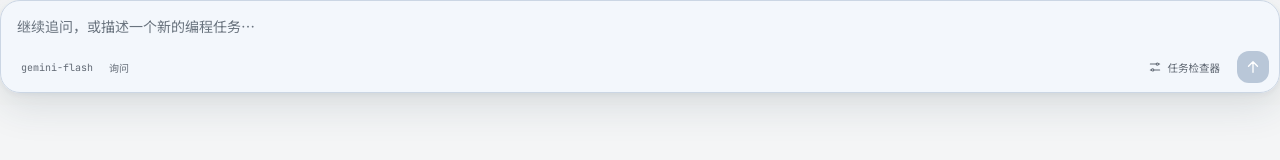
Scenario: keeps keyboard-selected completions visible and applies them with Tab
The width and height of the screenshot is (1280, 160).
Step 1. Type "/" into the text box named "任务输入" → (642, 32), box [14, 12, 1269, 51]
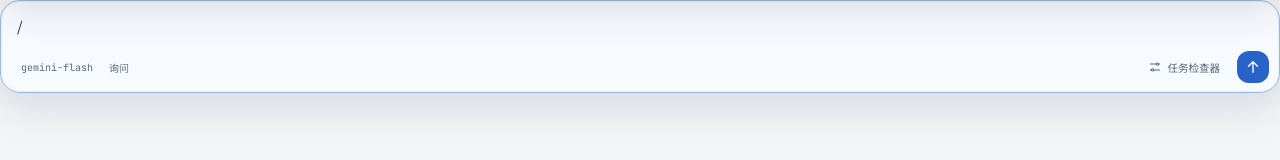
Step 2. Press Arrowdown
Step 3. Press Tab
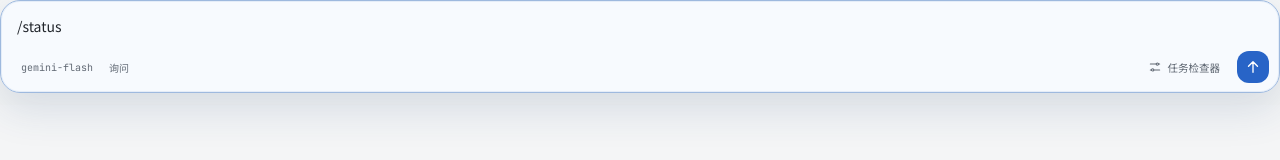
Expected: the text box named "任务输入" holds "/status", [14, 12, 1269, 51]
